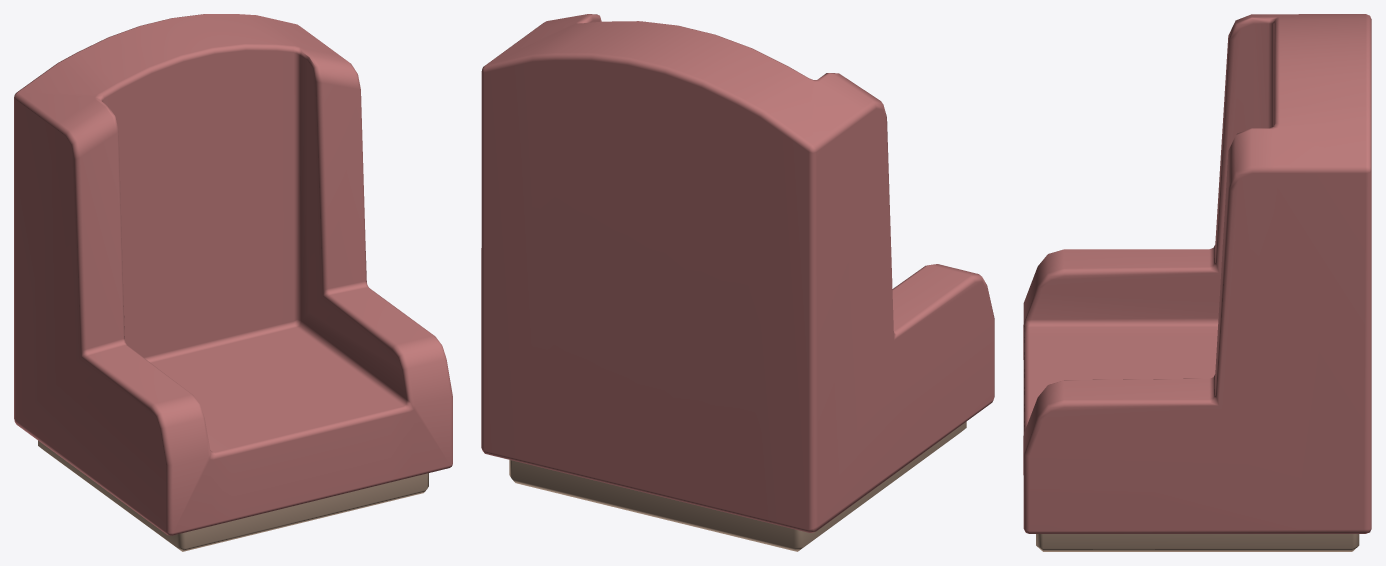
The model's file is Chair_Armchair_2.glb.
3 views of the same model, side by side, from view 1: azimuth 30°, elevation 25°; view 2: azimuth 150°, elevation 25°; view 3: azimuth 270°, elevation 25° (orthographic). The views are drawn at different scales.
Visible parts, largest first — view 1: Armchair_2; view 2: Armchair_2; view 3: Armchair_2.
Part boxes in pixels (left/top/right/bottom): Armchair_2: left=14, top=14, right=452, bottom=551; Armchair_2: left=481, top=14, right=994, bottom=551; Armchair_2: left=1023, top=14, right=1371, bottom=551.
Bounding box in the file's own units: 1.33 × 1.75 × 1.27.
1 material, 1 textured.
